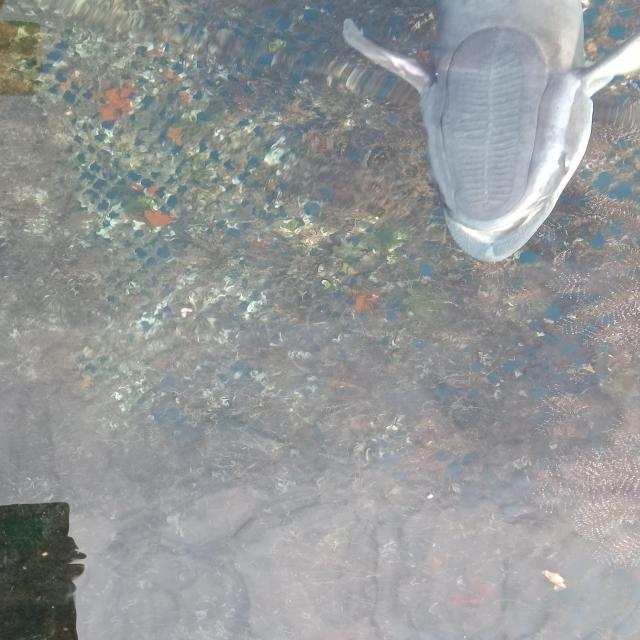ikan: (311, 18, 638, 276)
